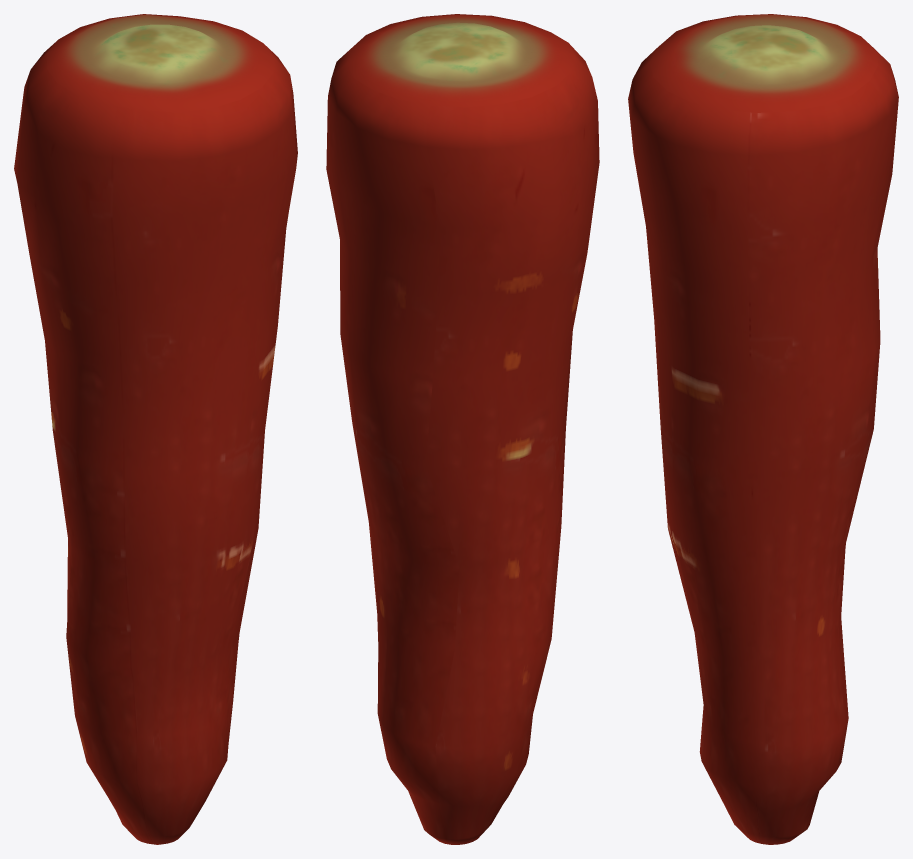
The model's file is carrot.fbx.
3 renders of one model, left to right at view 1: azimuth 30°, elevation 25°; view 2: azimuth 150°, elevation 25°; view 3: azimuth 270°, elevation 25°, orthographic.
Parts seen in each view (by area): view 1: pCylinder4; view 2: pCylinder4; view 3: pCylinder4.
Part boxes in pixels (<box>): pCylinder4: <box>14,14,297,844</box>; pCylinder4: <box>326,14,599,844</box>; pCylinder4: <box>628,14,898,844</box>.
Size of the model in its own units: 1.28 by 4.04 by 1.24.
